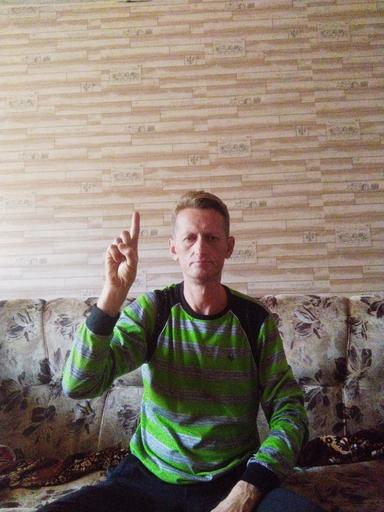one: (104, 210, 142, 289)
